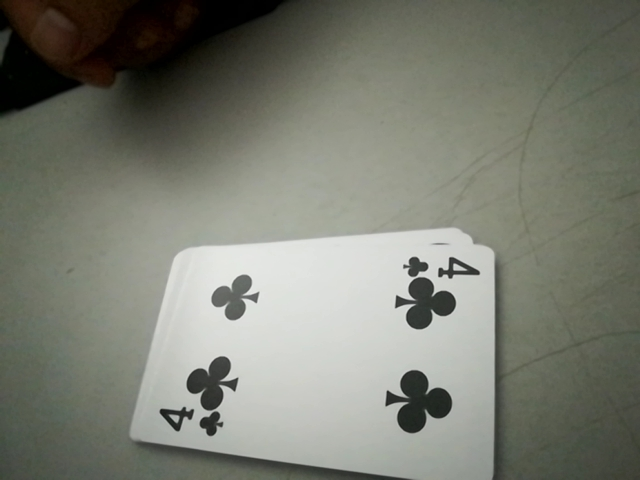mh 4: (148, 399, 230, 443), (402, 245, 486, 285)
